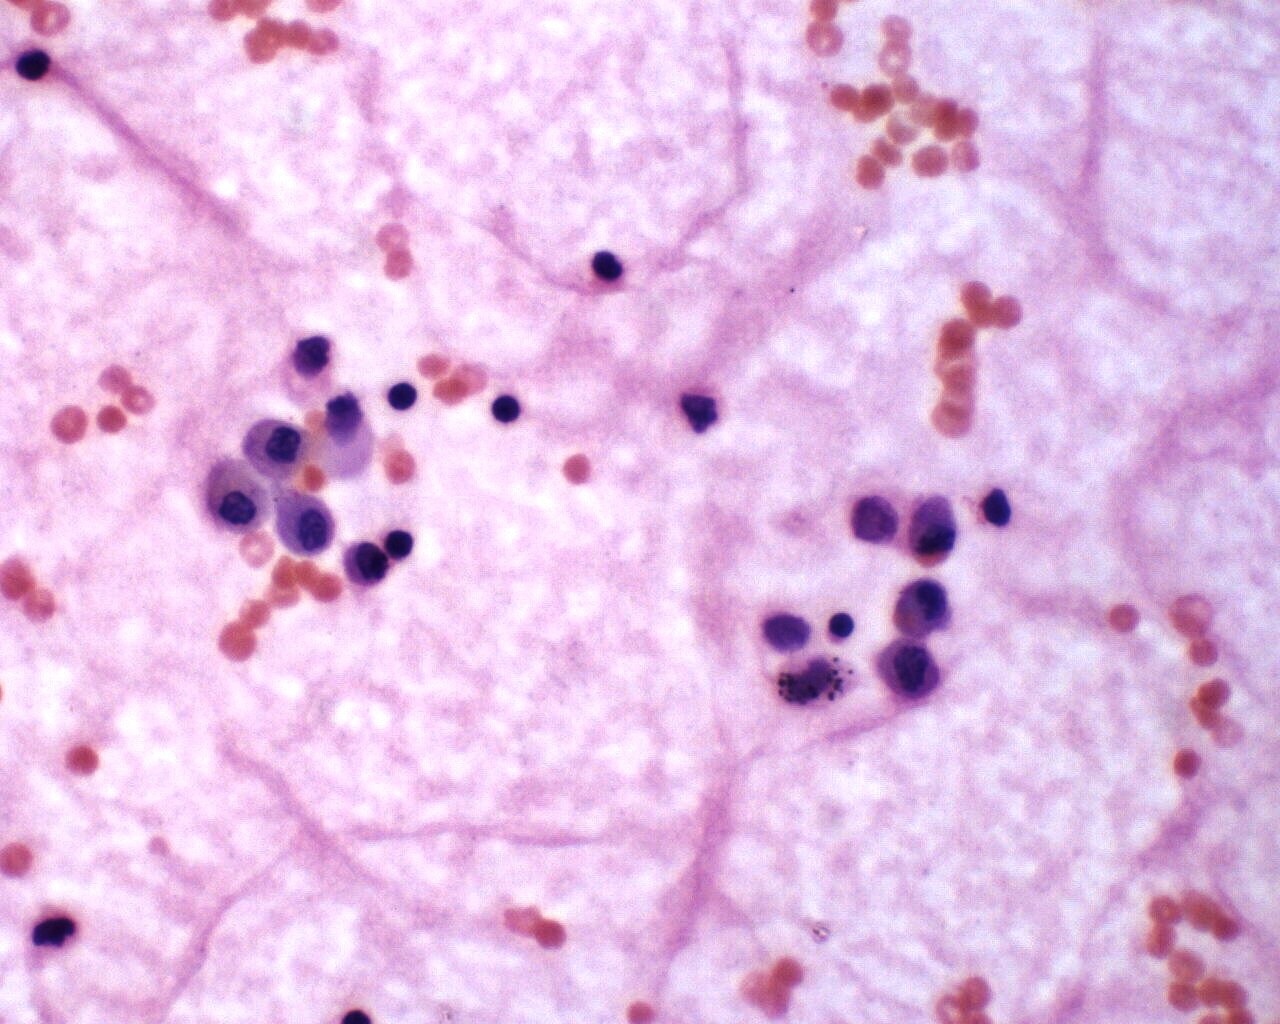ab: (200, 453, 273, 534), (239, 414, 313, 478), (876, 639, 942, 708), (273, 493, 345, 557)
lymph: (486, 389, 529, 430), (825, 608, 863, 645), (386, 377, 420, 416)
